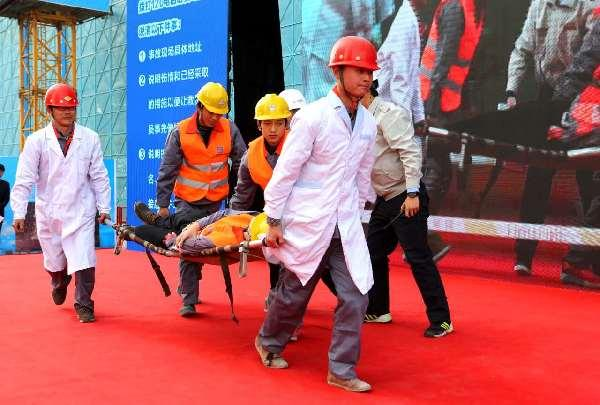helmet: (331, 36, 381, 71), (247, 209, 279, 243), (254, 95, 291, 124), (198, 85, 230, 116), (46, 86, 79, 110), (281, 88, 309, 115)
